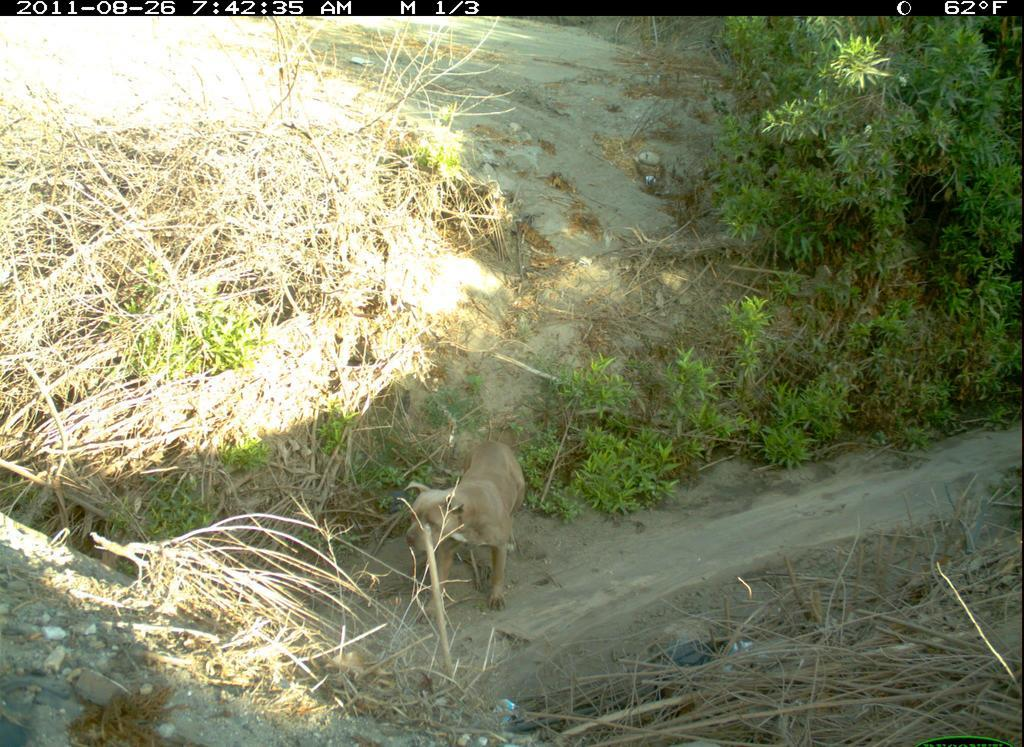dog: (405, 429, 539, 629)
